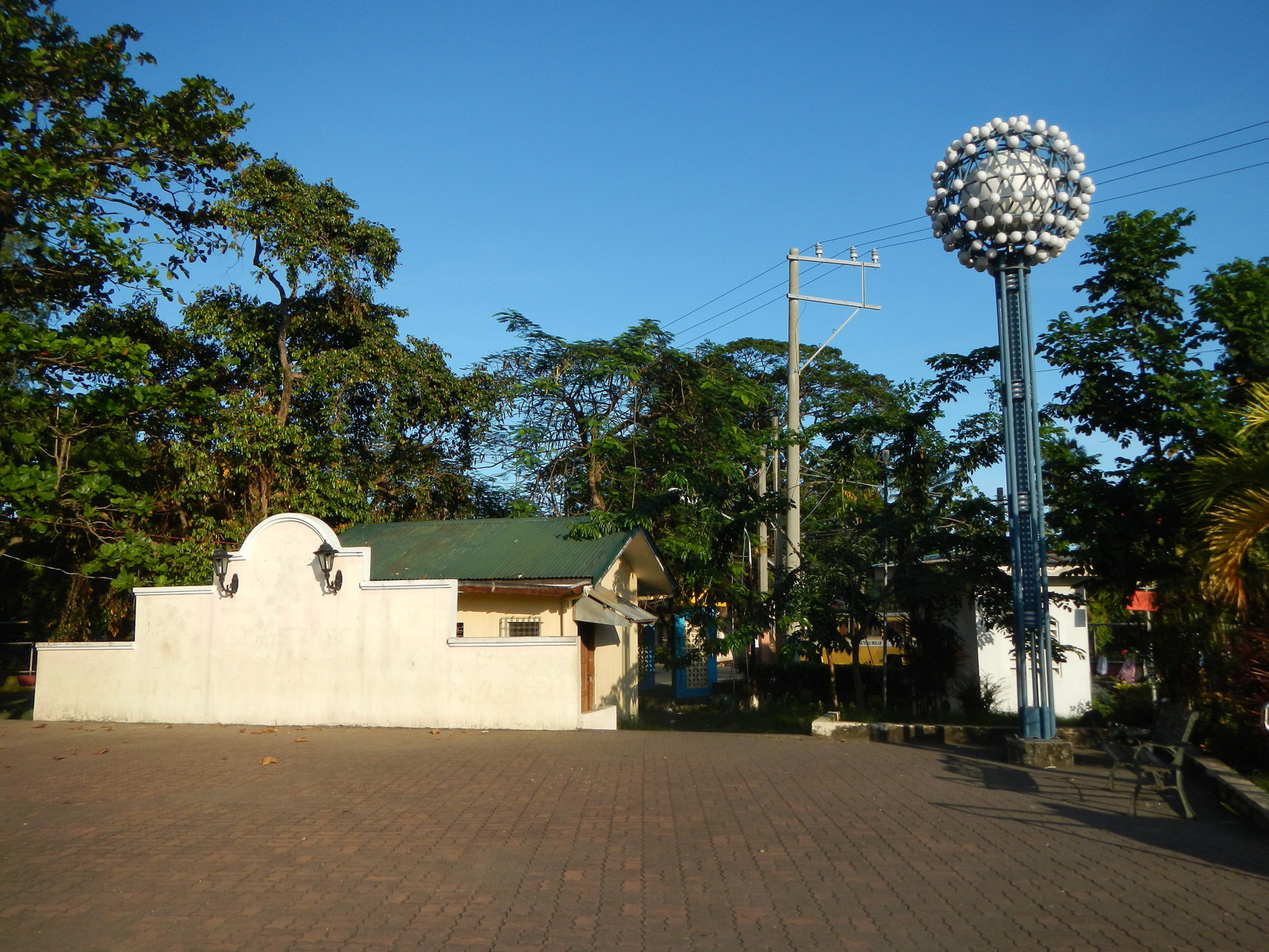fachada: (24, 487, 672, 738)
poste: (777, 230, 904, 635)
